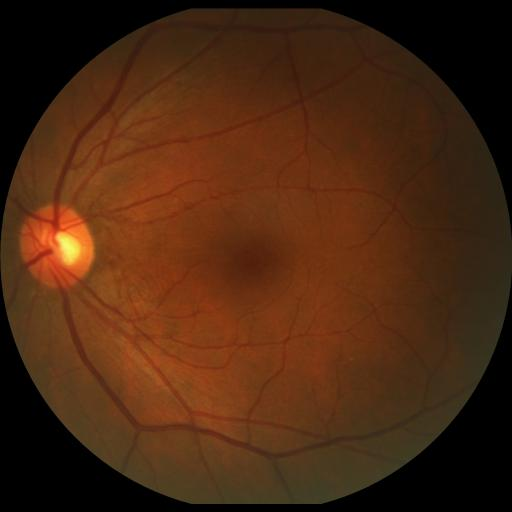Optic Cup: (49, 232, 81, 266)
Optic Disc: (20, 204, 94, 288)
